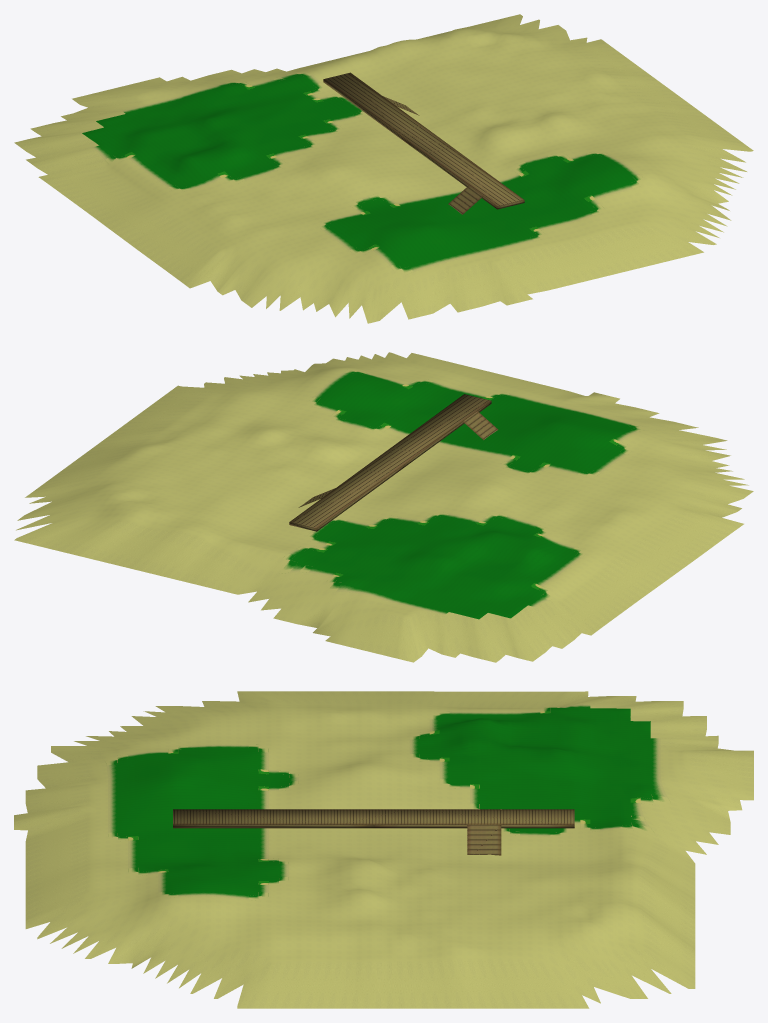
File: map_52.fbx
The picture shows the model from 3 angles, top to bottom: view 1: azimuth 30°, elevation 25°; view 2: azimuth 150°, elevation 25°; view 3: azimuth 270°, elevation 25°; orthographic projection. The views are drawn at different scales.
Visible parts, largest first — view 1: Plane.001; view 2: Plane.001; view 3: Plane.001.
Part boxes in pixels (<box>): Plane.001: <box>14,14,753,323</box>; Plane.001: <box>14,352,753,662</box>; Plane.001: <box>14,691,753,1008</box>.
Size of the model in its own units: 150 by 8.62 by 147.
Materials: 6 (6 with a texture image).
